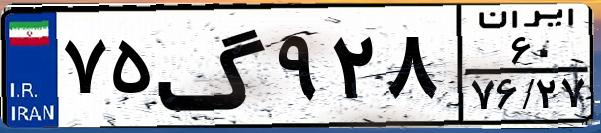0: (537, 27, 568, 80)
2: (330, 28, 385, 110), (535, 70, 560, 125)
5: (110, 28, 156, 98)
6: (508, 27, 537, 80), (495, 70, 520, 125)
7: (57, 26, 110, 100), (560, 70, 590, 125), (470, 70, 495, 125)
8: (385, 28, 445, 110)
9: (270, 28, 330, 110)
گ: (156, 12, 270, 120)
